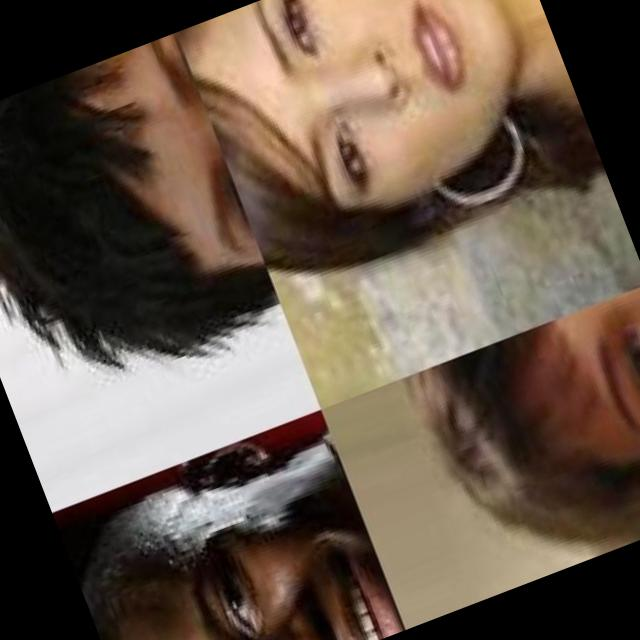bareface: (183, 0, 578, 297)
